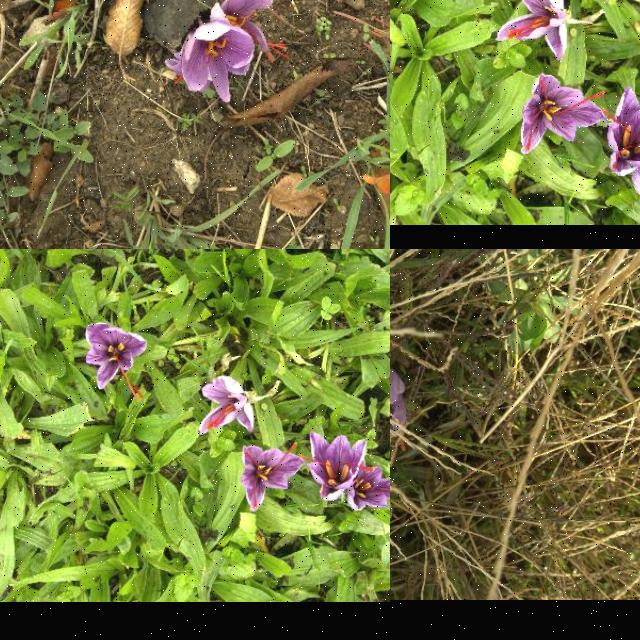flower: (521, 74, 605, 154), (300, 432, 372, 502), (86, 324, 148, 401), (494, 0, 568, 61), (243, 443, 303, 512), (198, 376, 255, 434), (348, 458, 390, 512)
overlap: (165, 0, 289, 103), (603, 87, 640, 204)
